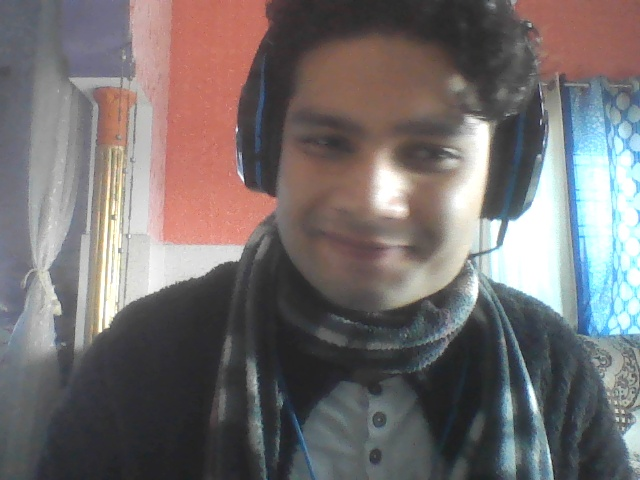real: (243, 0, 521, 394)
